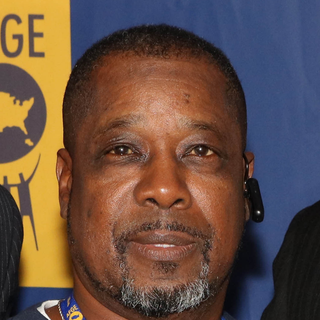eye: (99, 139, 144, 164), (179, 139, 223, 164)
